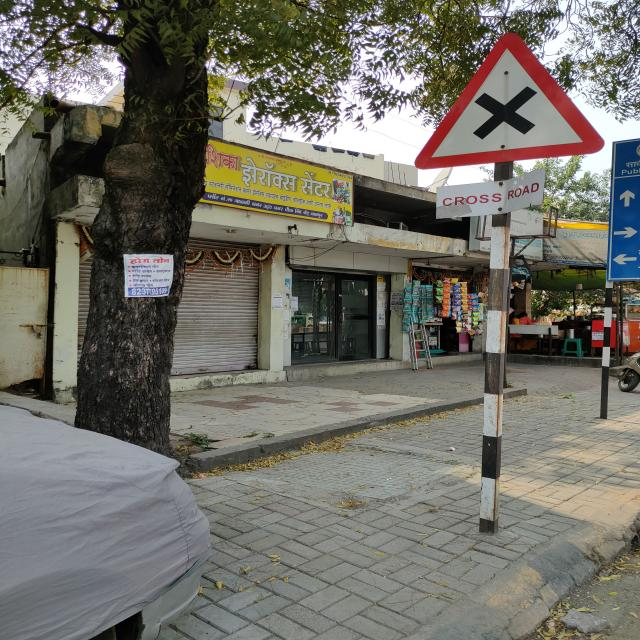cross_road: (413, 30, 605, 169)
